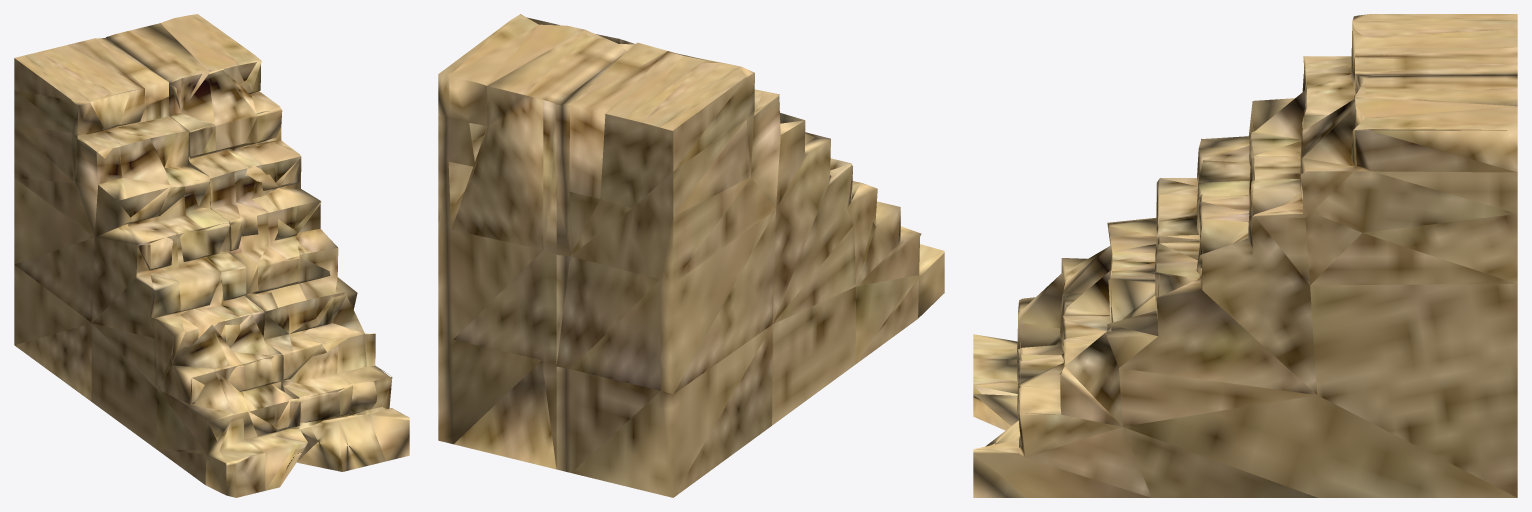
The model's file is stairs.lod2.glb.
3 views of the same model, side by side, from view 1: azimuth 30°, elevation 25°; view 2: azimuth 150°, elevation 25°; view 3: azimuth 270°, elevation 25° (orthographic). The views are drawn at different scales.
Bounding box in the file's own units: 2 × 3 × 4.
1 material, 1 textured.
